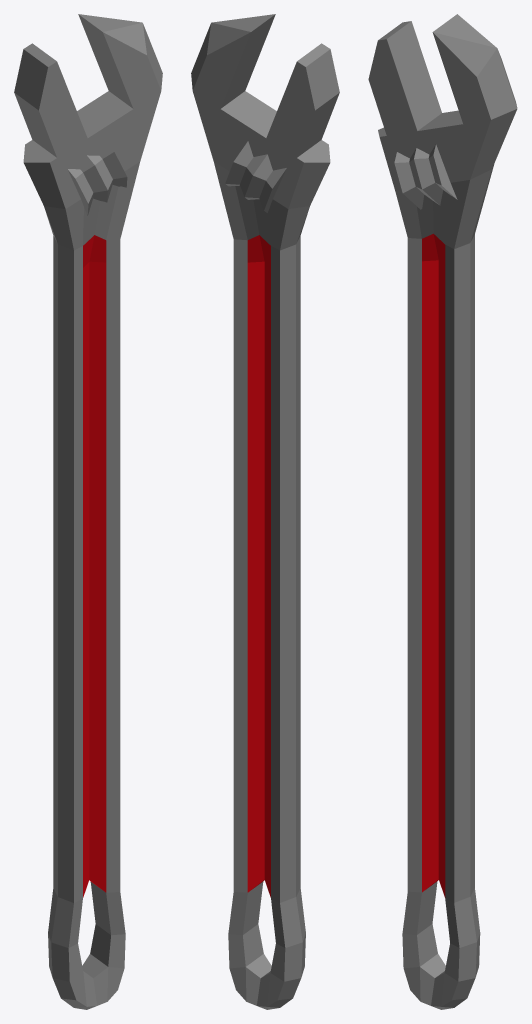
The model's file is Wrench.fbx.
3 views of the same model, side by side, from view 1: azimuth 30°, elevation 25°; view 2: azimuth 150°, elevation 25°; view 3: azimuth 330°, elevation 25° (orthographic).
Visible parts, largest first — view 1: Wrench, Wrench Adjuster; view 2: Wrench, Wrench Adjuster; view 3: Wrench, Wrench Adjuster.
Part boxes in pixels (box(x1,y1,x2,y2)): Wrench: box(14, 14, 162, 1009); Wrench Adjuster: box(67, 142, 127, 215); Wrench: box(191, 14, 339, 1009); Wrench Adjuster: box(225, 141, 286, 212); Wrench: box(368, 14, 517, 1009); Wrench Adjuster: box(394, 144, 457, 209).
Bounding box in the file's own units: 0.1552 × 1.05 × 0.0774.
